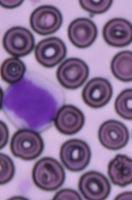M: (0, 69, 66, 132)
